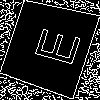E: (24, 22, 81, 68)
